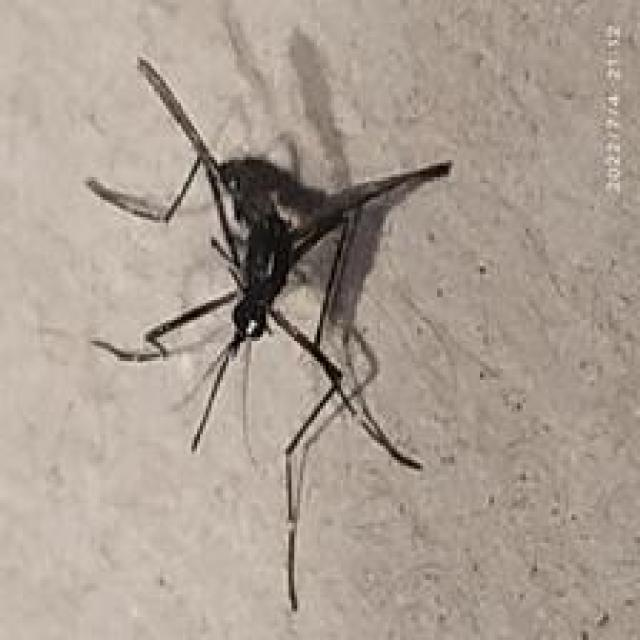Aedes albopictus: (84, 51, 456, 612)
